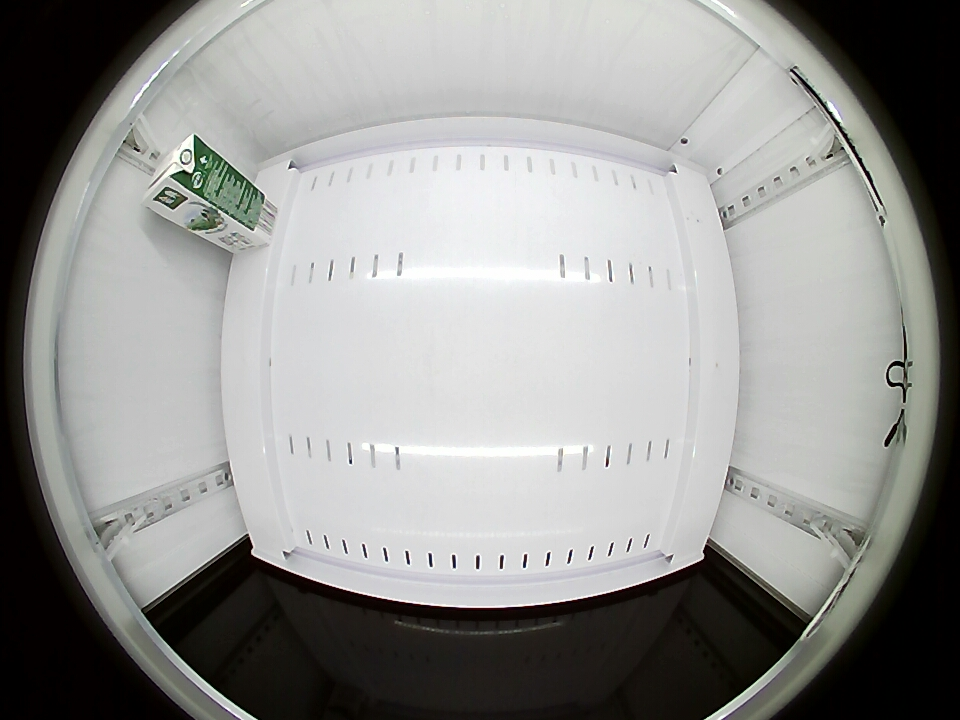jindian: (142, 133, 218, 220)
